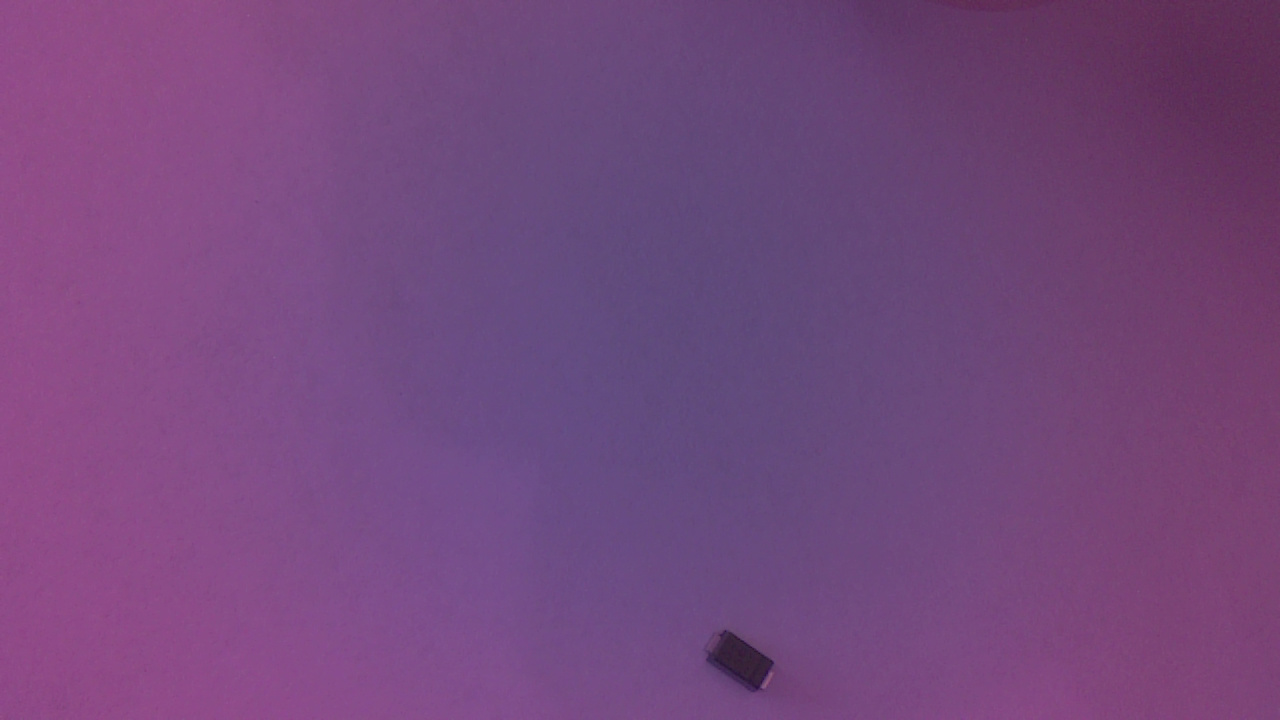Diode: (708, 626, 787, 701)
